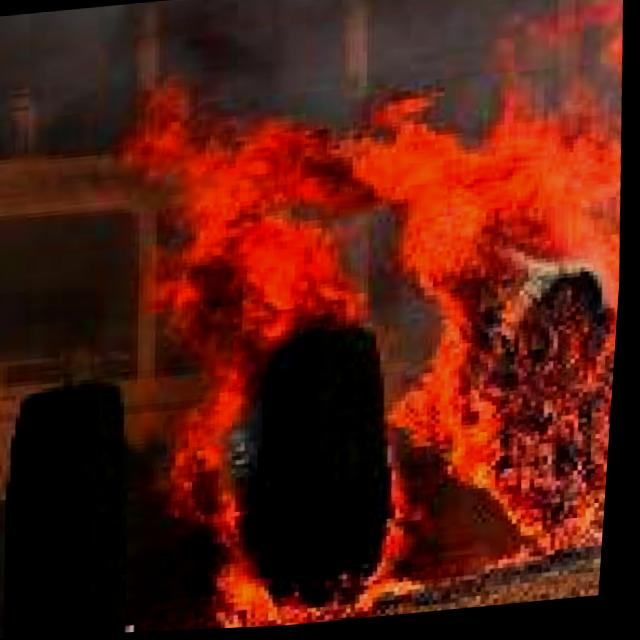fire: (115, 0, 640, 623)
